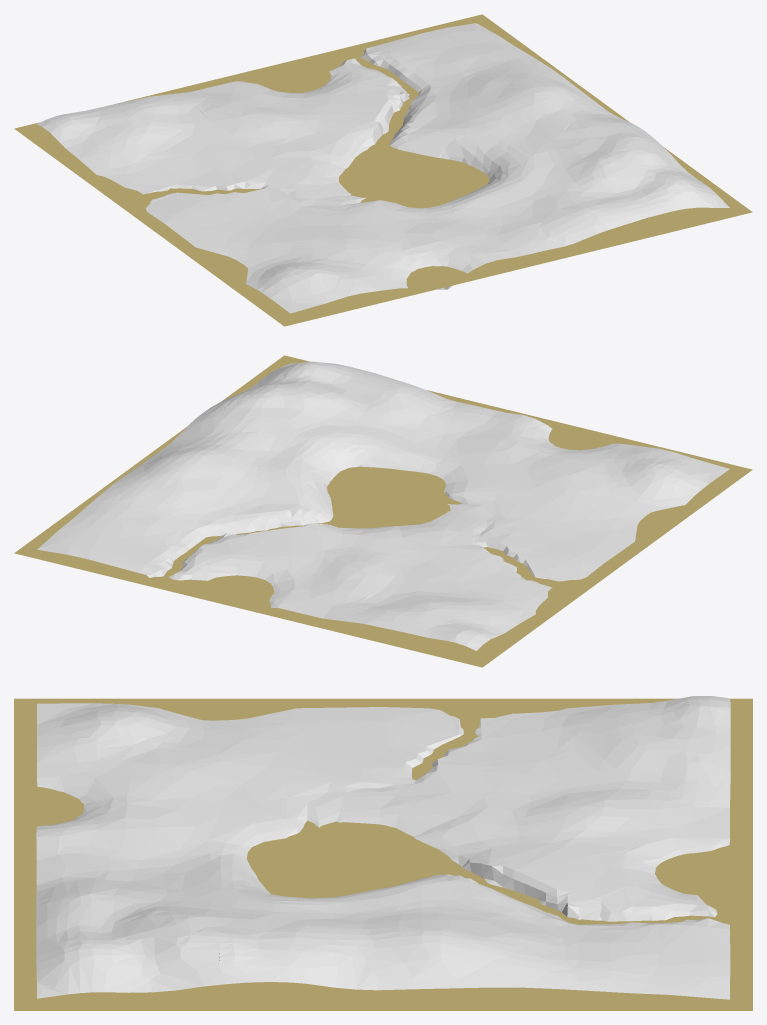
Rendered from Land 1.fbx.
3 views of the same model, one above another, from view 1: azimuth 30°, elevation 25°; view 2: azimuth 150°, elevation 25°; view 3: azimuth 270°, elevation 25° (orthographic). The views are drawn at different scales.
Visible parts, largest first — view 1: GreenLand, Land; view 2: GreenLand, Land; view 3: GreenLand, Land.
Part boxes in pixels (<box>): GreenLand: <box>37,23,729,313</box>; Land: <box>14,14,752,326</box>; GreenLand: <box>37,361,729,650</box>; Land: <box>14,355,752,667</box>; GreenLand: <box>36,696,730,999</box>; Land: <box>14,698,752,1010</box>.
Size of the model in its own units: 32000 by 2882 by 32000.
